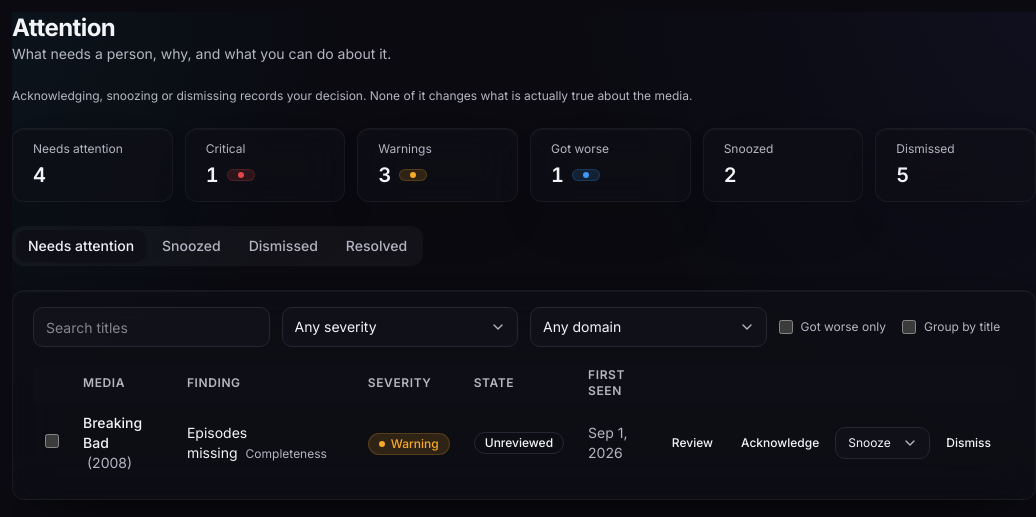
Test: MediaAttentionPage › groups the queue by title on request
Expected: the button "Breaking Bad" is shown, [83, 413, 163, 453]
Click the checkbox labelled "Group by title" at {"x": 909, "y": 327}, box [902, 320, 916, 334]
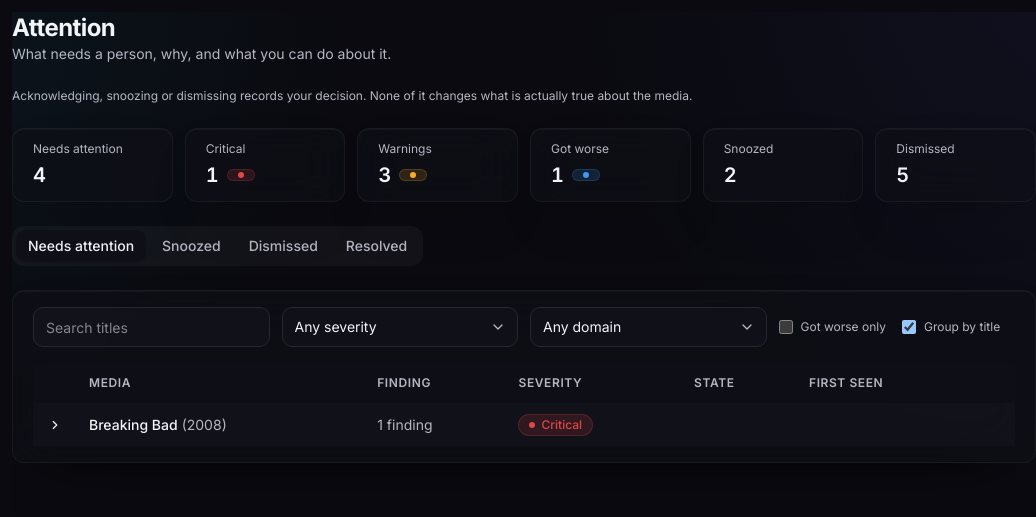
Expected: the element with test id "attention-rows" is shown, [33, 363, 1015, 446]
Now the text "1 finding" is shown, box [365, 403, 506, 446]
